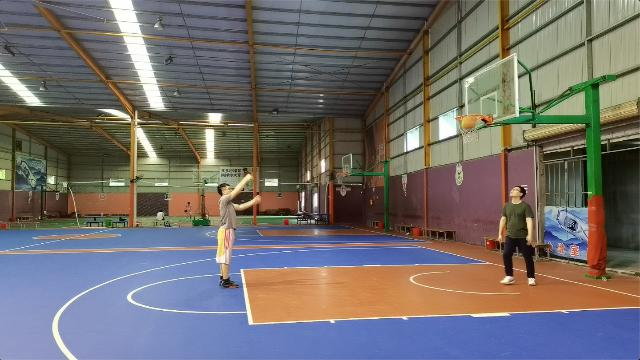ball: (462, 115, 474, 127)
basket: (455, 113, 483, 141)
